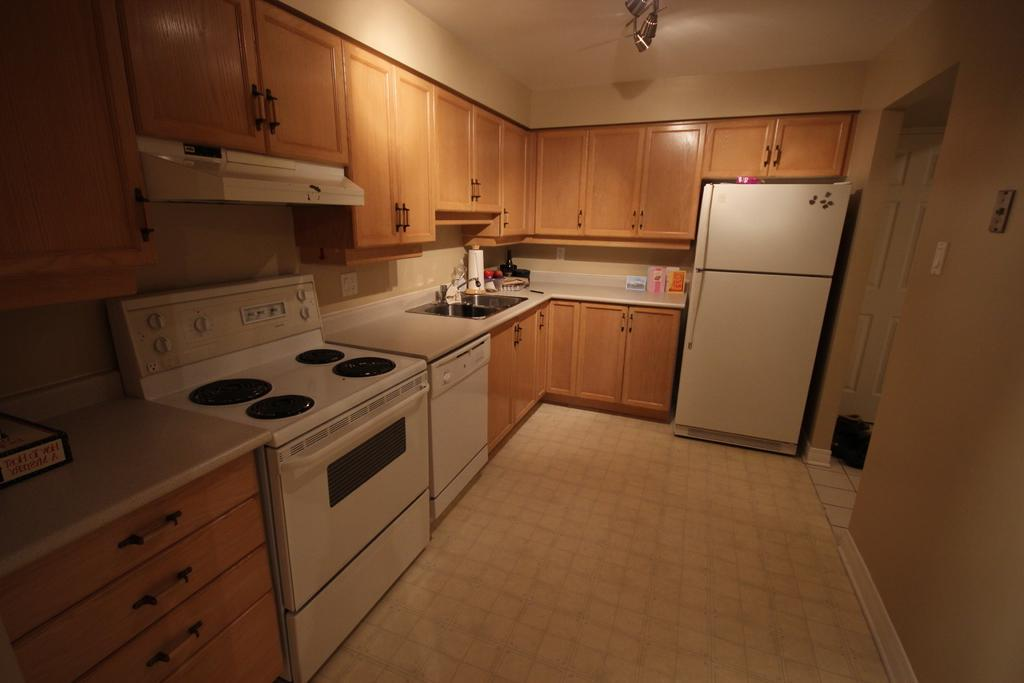door: (853, 131, 936, 440)
